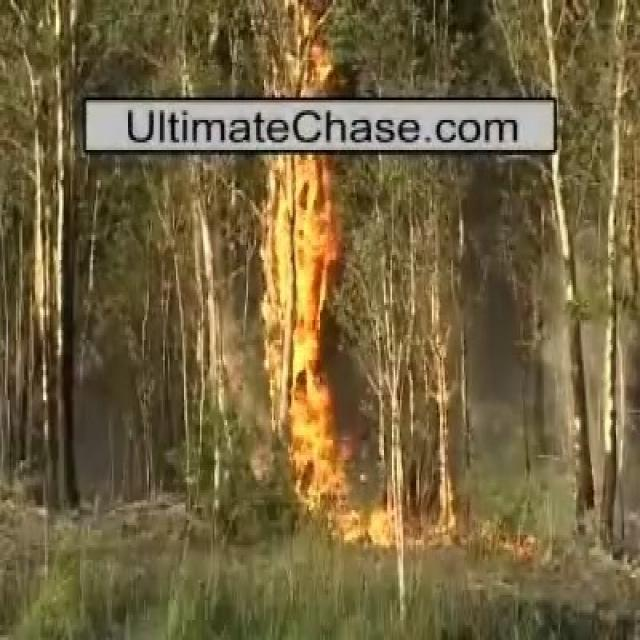fire: (272, 152, 336, 466), (330, 508, 390, 544)
